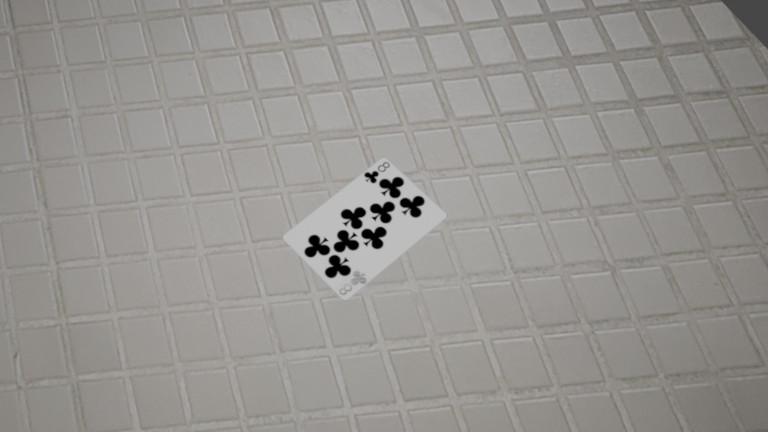8_of_clubs: (134, 107, 148, 120), (144, 63, 158, 75)
